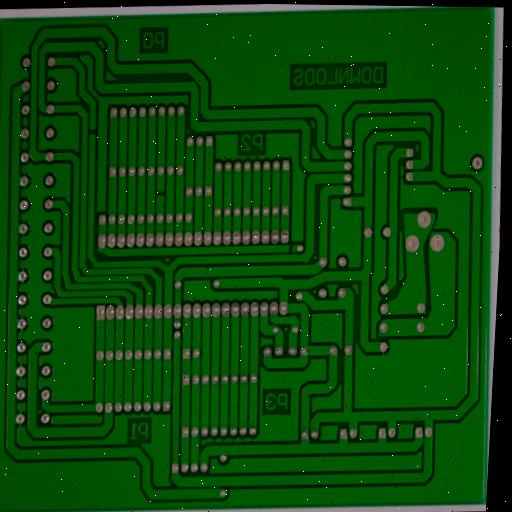open_circuit: (154, 187, 166, 200), (285, 243, 296, 254), (88, 126, 97, 137)
